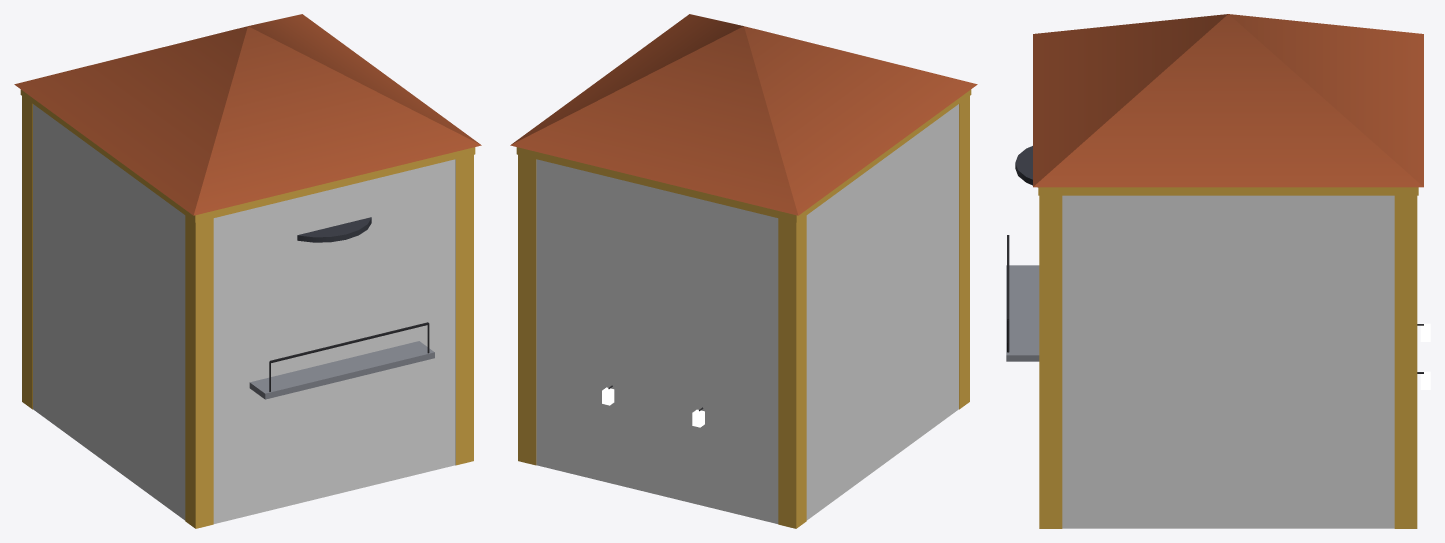
Rendered from estacion_teleferico.glb.
The picture shows the model from 3 angles, left to right: view 1: azimuth 30°, elevation 25°; view 2: azimuth 150°, elevation 25°; view 3: azimuth 270°, elevation 25°; orthographic projection. The views are drawn at different scales.
Visible parts, largest first — view 1: COL_0, estacion_teleferico_Malla; view 2: COL_0, estacion_teleferico_Malla; view 3: COL_0, estacion_teleferico_Malla.
Boxes of the visible parts, bbox=[...] form: COL_0: bbox=[33, 104, 455, 523]; estacion_teleferico_Malla: bbox=[14, 14, 481, 528]; COL_0: bbox=[536, 104, 958, 523]; estacion_teleferico_Malla: bbox=[510, 14, 977, 528]; COL_0: bbox=[1062, 195, 1394, 528]; estacion_teleferico_Malla: bbox=[1006, 14, 1430, 528].
Size of the model in its own units: 10.2 by 13.7 by 11.94.
